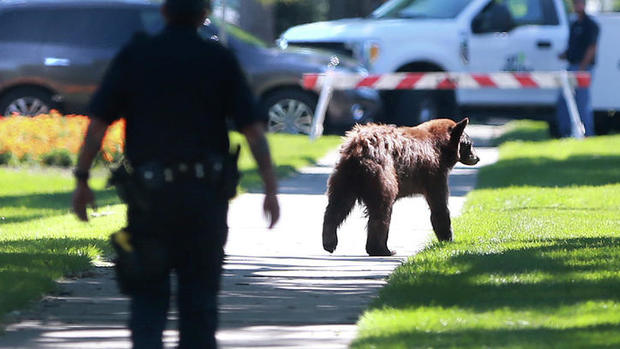bear: (448, 115, 484, 168)
